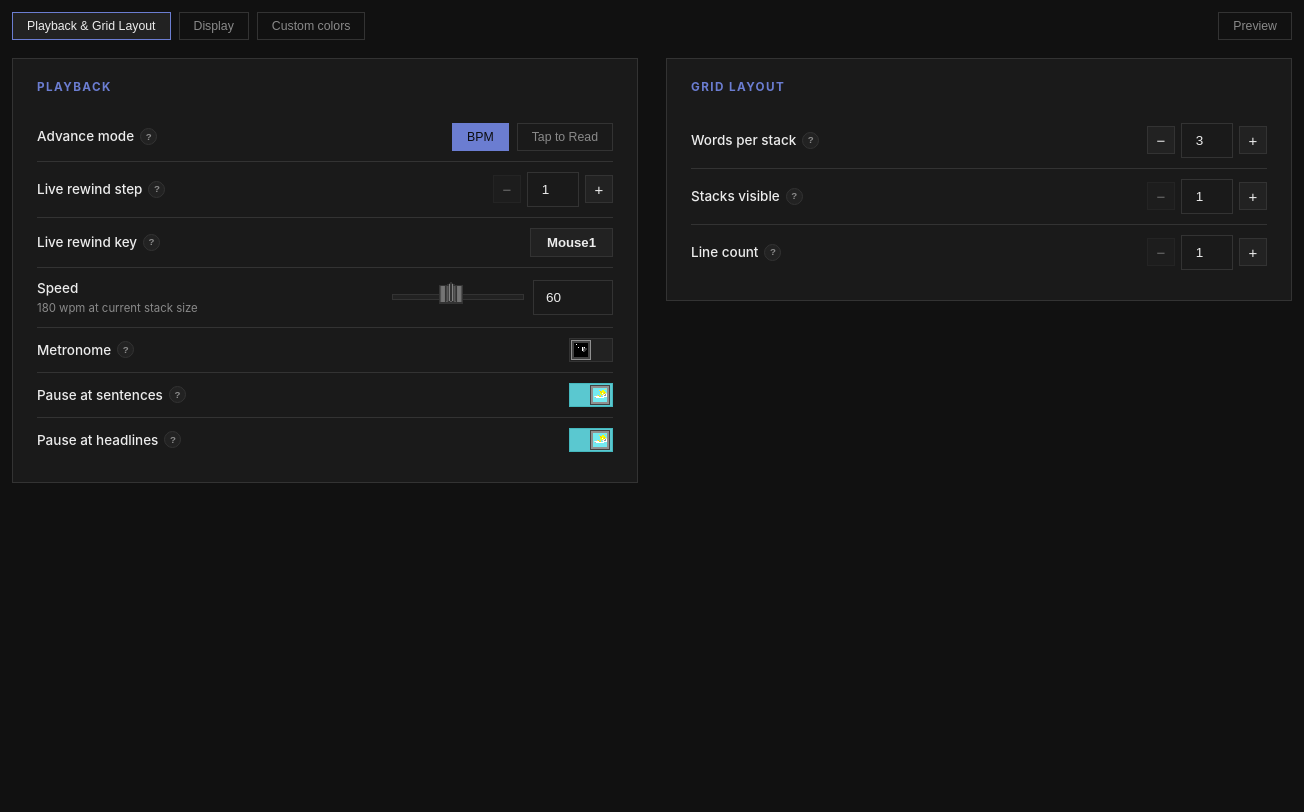
ReaderSettingsEditor — Settings host › preserves highlight color reveal gating inside the Custom colors tab
Click the tab "Display": (214, 26) 178,12 -> 249,40
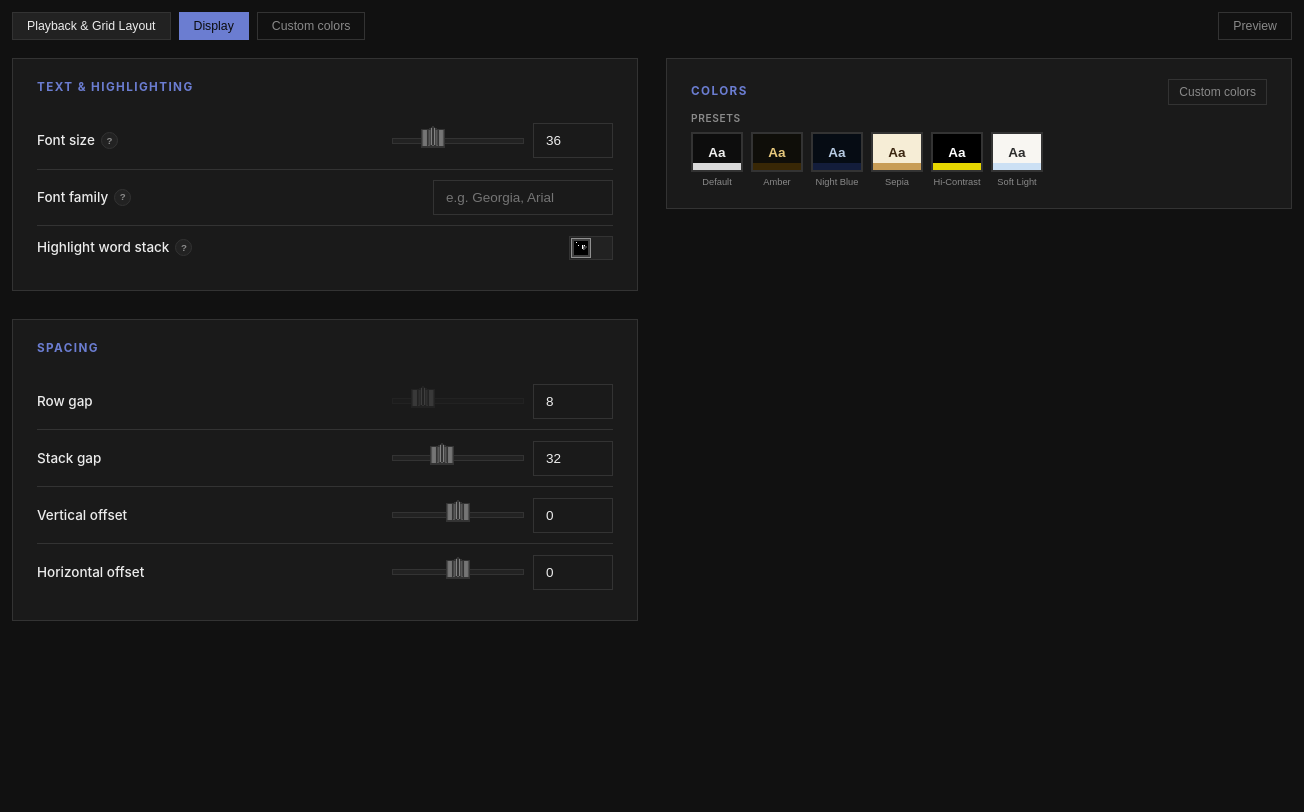
Click the button "Custom colors": (1218, 92) 1168,79 -> 1267,105
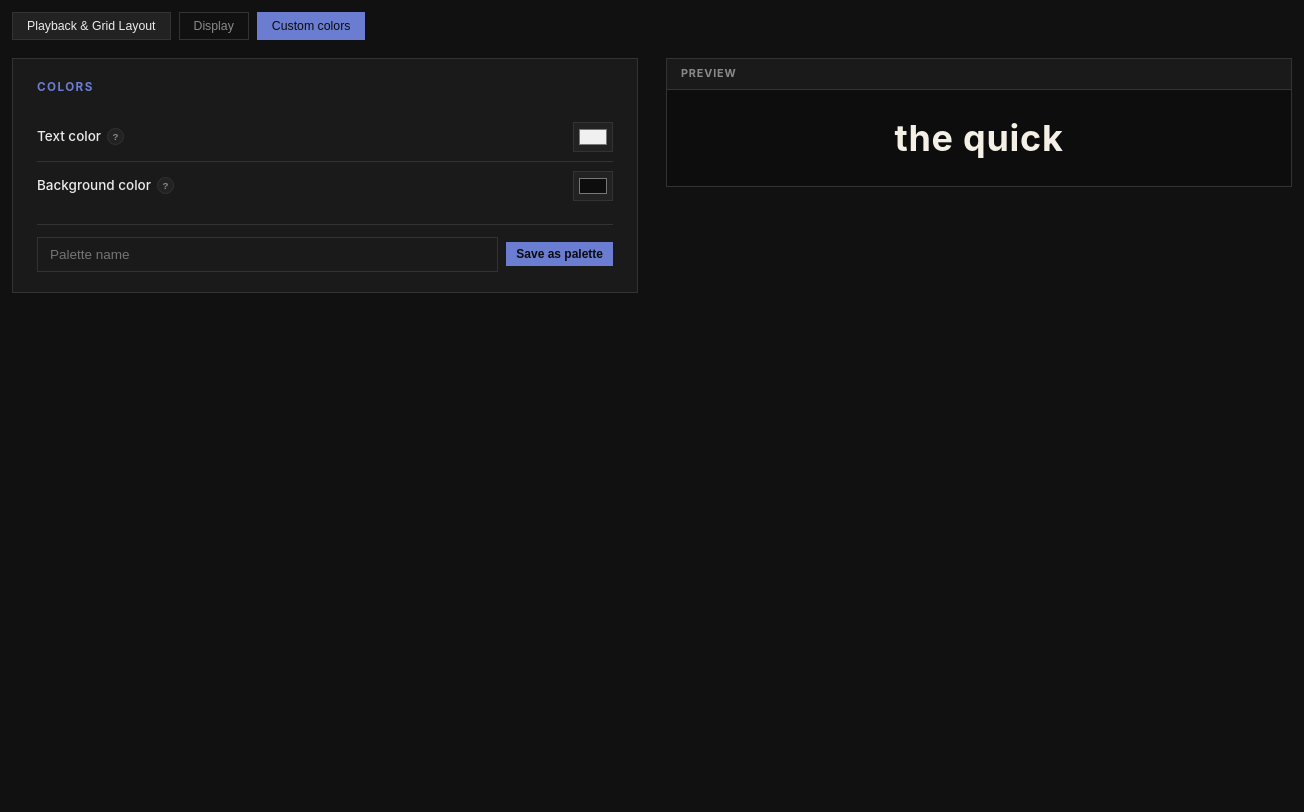
Check: the text "Text color" is shown, box 37,126 -> 101,147
Check: the text "Background color" is shown, box 37,175 -> 151,196
